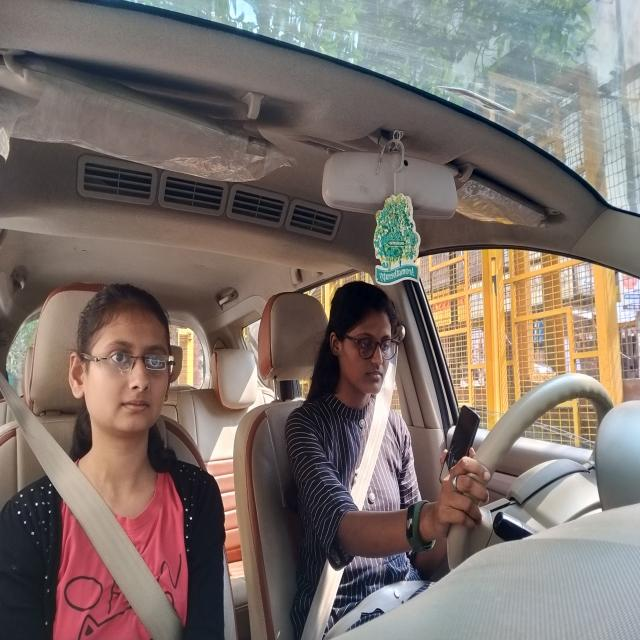mobile: (435, 402, 484, 481)
person: (70, 285, 177, 453), (324, 271, 401, 419)
